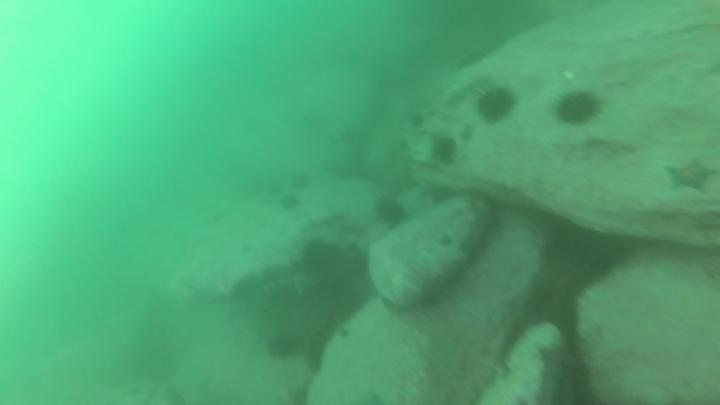holothurian: (662, 152, 720, 194)
starfish: (548, 88, 609, 127), (473, 87, 517, 126), (301, 238, 339, 273), (428, 134, 463, 170), (376, 197, 409, 233), (266, 329, 299, 362), (428, 184, 463, 208), (289, 172, 316, 193), (280, 194, 304, 213)
